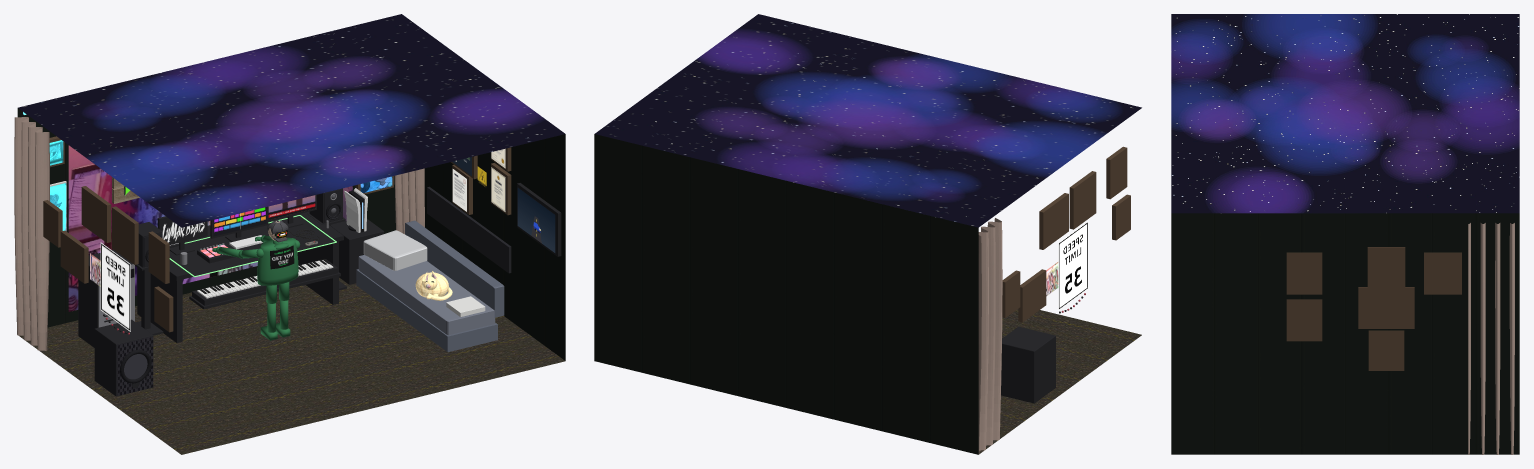
The model's file is studio12.glb.
The picture shows the model from 3 angles, left to right: view 1: azimuth 30°, elevation 25°; view 2: azimuth 150°, elevation 25°; view 3: azimuth 270°, elevation 25°; orthographic projection. The views are drawn at different scales.
Parts seen in each view (by area): view 1: Ceiling, Floor, RightWall, CurtainLeft, Tapestry, BackWall, FutonMattress, LittleLumar_Body, FutonBack, FutonBase, AcousticFoam, DeskMat (+25 smaller); view 2: BackWall, Ceiling, Floor, CurtainLeft, SubwooferL, SpeedLimit35, ArtCollage_frame, ArtSneaker_frame, ArtLuMar_frame, ArtTarget_frame, ArtAnime_frame, ArtCamila_frame; view 3: RightWall, Ceiling, CurtainRight, ShadowBox_frame, Cert2_frame, Cert1_frame, Cert3_frame, Cert5_frame, Cert4_frame.
Part boxes in pixels (box(x1,y1,x2,y2)): Ceiling: box(18, 14, 564, 227); Floor: box(18, 277, 565, 454); RightWall: box(424, 134, 565, 360); CurtainLeft: box(14, 117, 49, 350); Tapestry: box(68, 145, 352, 311); BackWall: box(17, 108, 395, 327); FutonMattress: box(358, 255, 495, 335); LittleLumar_Body: box(212, 235, 300, 340); FutonBack: box(405, 220, 504, 317); FutonBase: box(356, 269, 497, 352); AcousticFoam: box(427, 186, 511, 273); DeskMat: box(169, 216, 334, 275); BackWall: box(594, 134, 978, 454); Ceiling: box(595, 14, 1141, 227); Floor: box(978, 309, 1141, 454); CurtainLeft: box(978, 218, 1002, 454); SubwooferL: box(1001, 326, 1055, 403); SpeedLimit35: box(1058, 221, 1088, 310); ArtCollage_frame: box(1069, 171, 1096, 229); ArtSneaker_frame: box(1039, 193, 1068, 249); ArtLuMar_frame: box(1018, 269, 1046, 322); ArtTarget_frame: box(1106, 146, 1127, 199); ArtAnime_frame: box(1002, 270, 1020, 317); ArtCamila_frame: box(1112, 194, 1130, 240); RightWall: box(1171, 213, 1519, 454); Ceiling: box(1171, 14, 1519, 213); CurtainRight: box(1468, 223, 1514, 454); ShadowBox_frame: box(1358, 287, 1414, 328); Cert2_frame: box(1424, 252, 1461, 294); Cert1_frame: box(1367, 247, 1405, 287); Cert3_frame: box(1286, 252, 1322, 294); Cert5_frame: box(1286, 299, 1322, 341); Cert4_frame: box(1368, 330, 1404, 370).
Size of the model in its own units: 4.68 by 2.6 by 3.4.
Materials: 77 (40 with a texture image).
